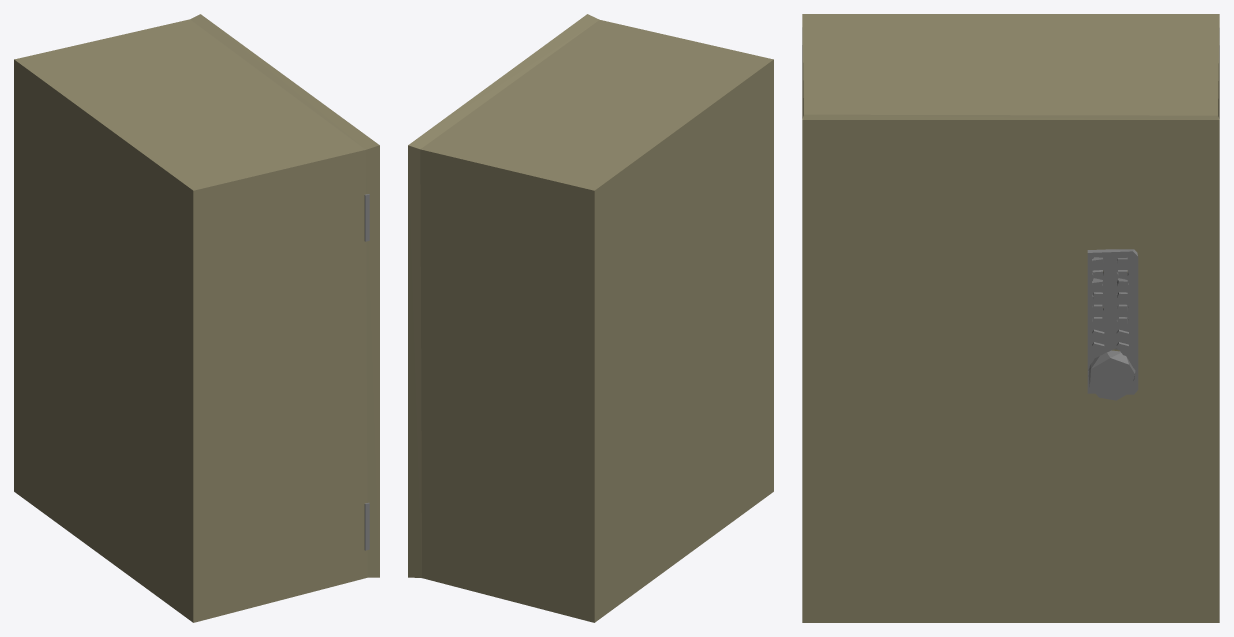
File: aed-box.lod0.glb
3 renders of one model, left to right at view 1: azimuth 30°, elevation 25°; view 2: azimuth 150°, elevation 25°; view 3: azimuth 270°, elevation 25°, orthographic. The views are drawn at different scales.
Parts seen in each view (by area): view 1: aed_glossymetal_0; view 2: aed_glossymetal_0; view 3: aed_glossymetal_0.
Part boxes in pixels (bbox=[...]): aed_glossymetal_0: bbox=[14, 14, 379, 622]; aed_glossymetal_0: bbox=[408, 14, 773, 622]; aed_glossymetal_0: bbox=[802, 14, 1219, 622].
Size of the model in its own units: 0.2207 by 0.45 by 0.3384.
